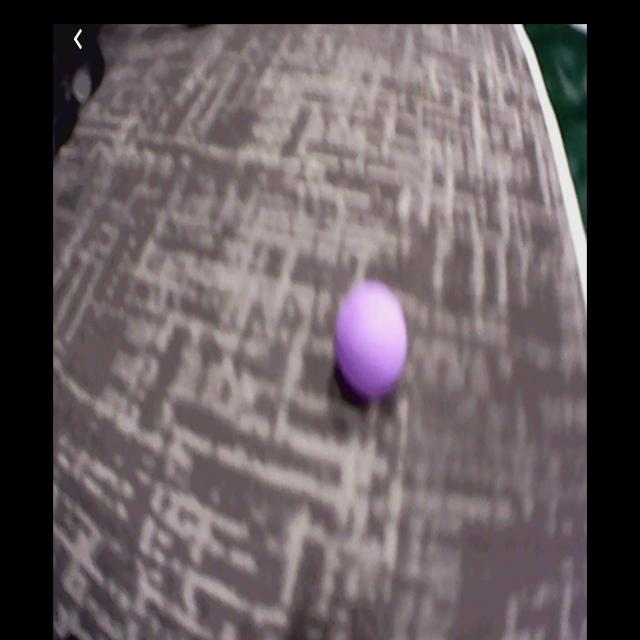ball: (333, 279, 410, 401)
